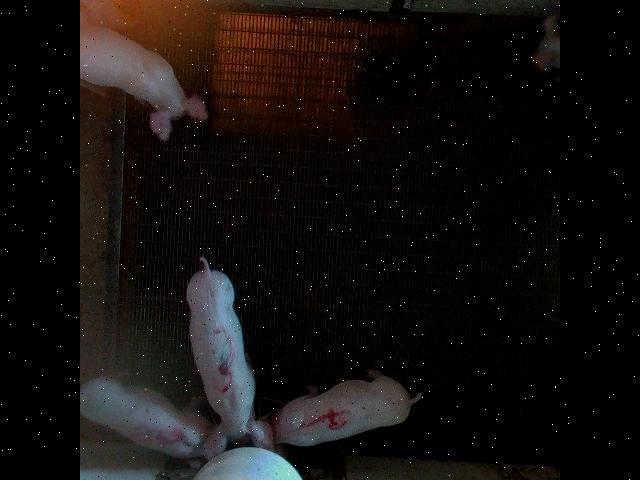pig-3: (187, 256, 274, 458)
pig-4: (269, 369, 422, 445)
pig-5: (81, 376, 214, 456)
